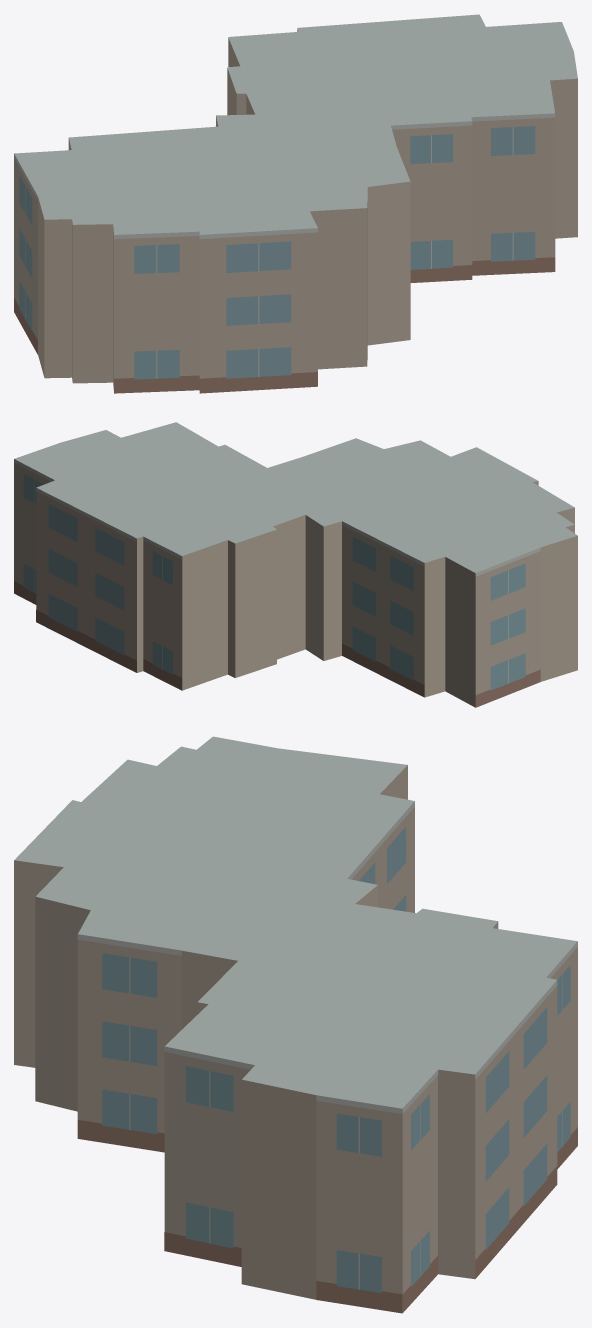
The model's file is survey-upis-32472227.glb.
3 renders of one model, top to bottom at view 1: azimuth 30°, elevation 25°; view 2: azimuth 150°, elevation 25°; view 3: azimuth 270°, elevation 25°, orthographic. The views are drawn at different scales.
Parts seen in each view (by area): view 1: survey-upis-32472227.tmp; view 2: survey-upis-32472227.tmp; view 3: survey-upis-32472227.tmp.
Boxes of the visible parts, x1=… form: survey-upis-32472227.tmp: x1=14, y1=14, x2=577, y2=393; survey-upis-32472227.tmp: x1=14, y1=422, x2=577, y2=707; survey-upis-32472227.tmp: x1=14, y1=736, x2=577, y2=1313.
Size of the model in its own units: 35.7 by 9.15 by 22.85.
